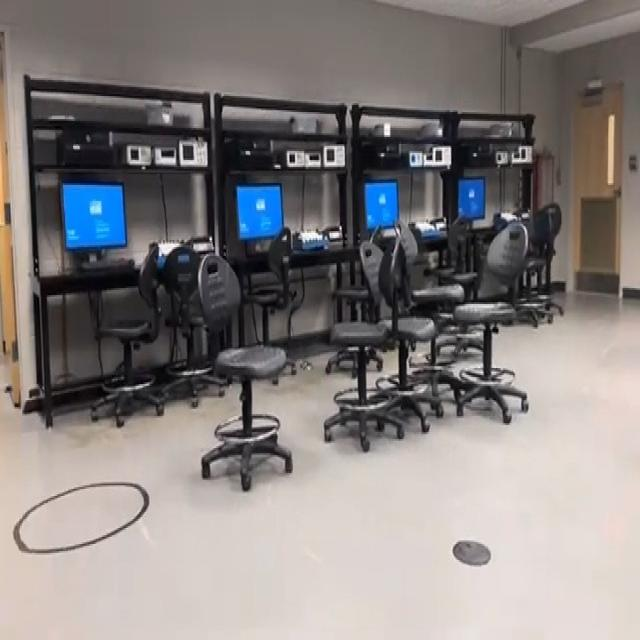drone: (289, 344, 322, 390)
